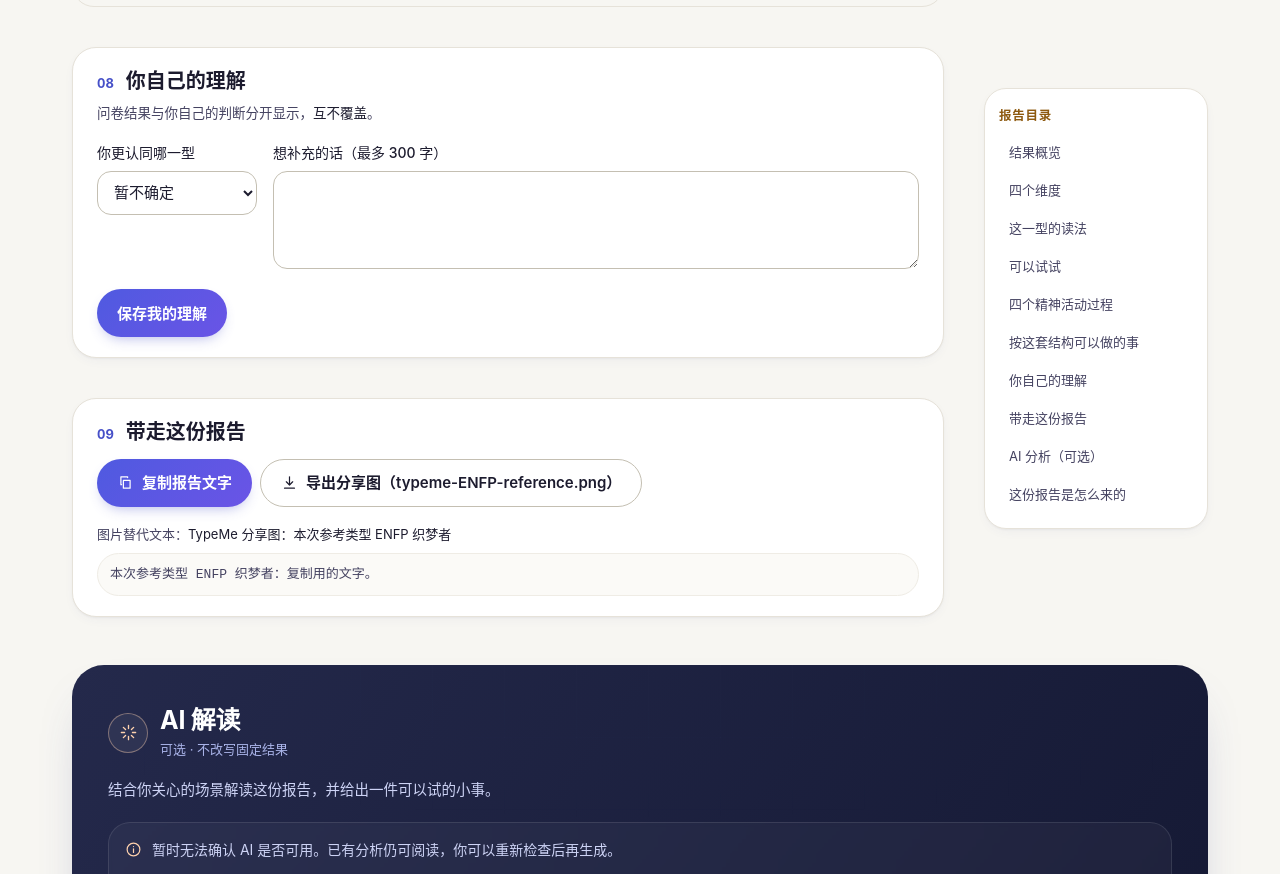
Test case: 报告页：分享三件套与自我理解 › 复制走剪贴板，失败时给出手动复制的文字
(page scrolled)
Step 1. Click the button "复制报告文字" → click(174, 483), box [97, 459, 252, 507]
(page scrolled)
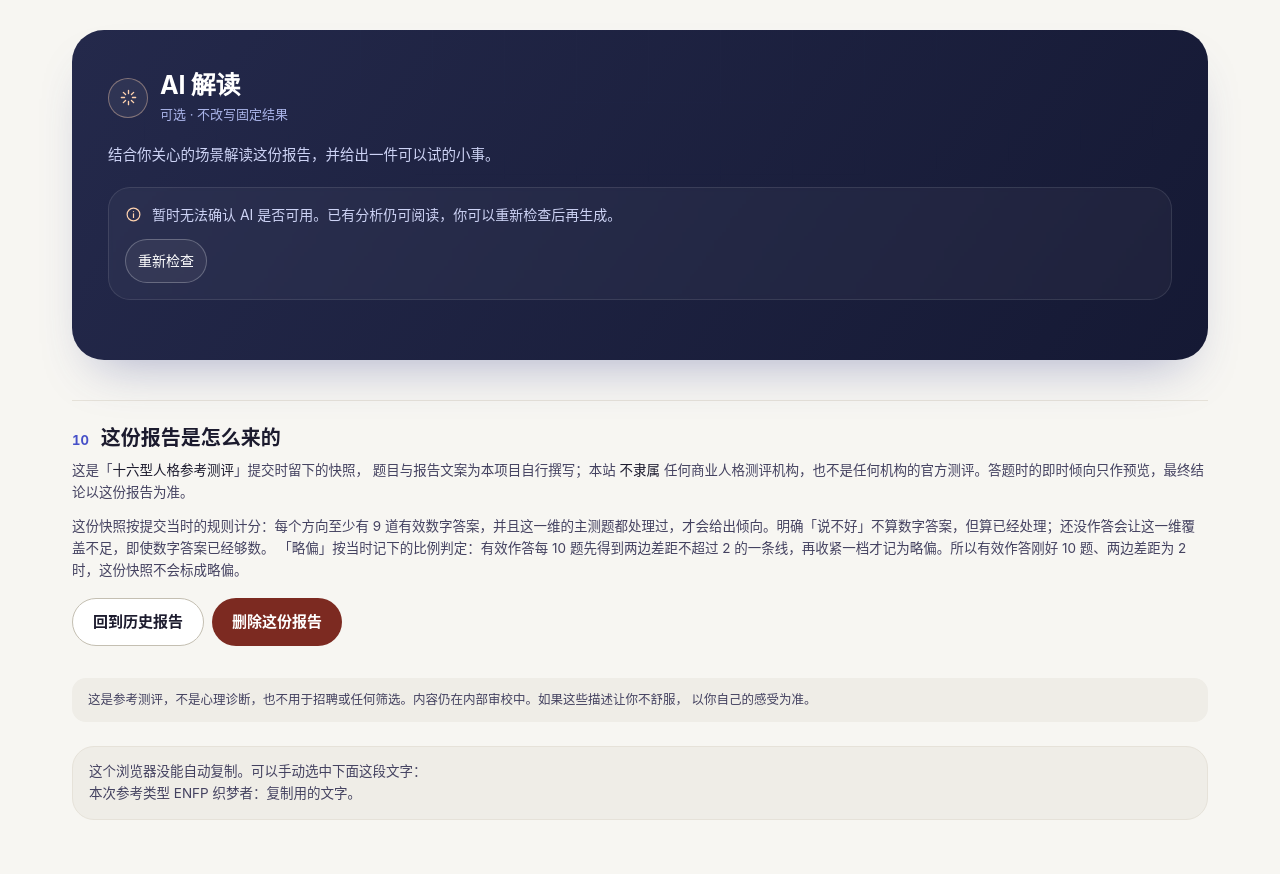
Check: the message "这个浏览器没能自动复制。可以手动选中下面这段文字： 本次参考类型 ENFP 织梦者：复制用的文字。" is shown, box [72, 746, 1208, 820]
